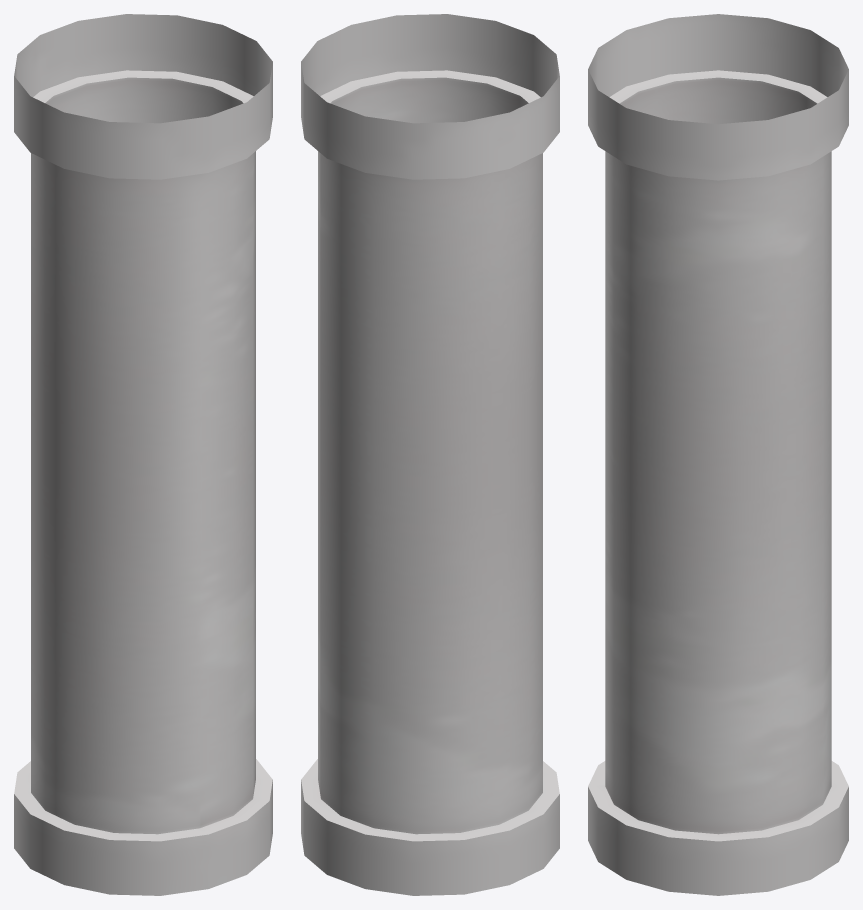
The model's file is Pipe5.fbx.
3 views of the same model, side by side, from view 1: azimuth 30°, elevation 25°; view 2: azimuth 150°, elevation 25°; view 3: azimuth 270°, elevation 25° (orthographic).
Parts seen in each view (by area): view 1: Mat_Pipe_01 4; view 2: Mat_Pipe_01 4; view 3: Mat_Pipe_01 4.
Part boxes in pixels (x1,y1,x2,y2): Mat_Pipe_01 4: (14, 14, 272, 895); Mat_Pipe_01 4: (301, 14, 559, 895); Mat_Pipe_01 4: (588, 14, 848, 895).
Bounding box in the file's own units: 0.3455 × 1.13 × 0.3455.
Materials: 1 (1 with a texture image).
